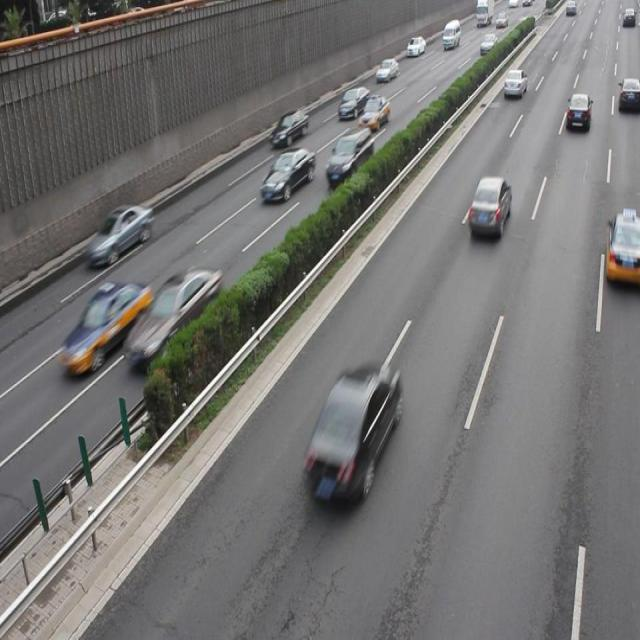car: (298, 360, 401, 509), (124, 266, 221, 372), (58, 278, 151, 379), (85, 201, 152, 268), (258, 146, 314, 202), (324, 125, 373, 186), (466, 175, 511, 239), (603, 210, 640, 287), (268, 107, 308, 150), (358, 93, 390, 132), (336, 85, 368, 120), (564, 92, 590, 133)
